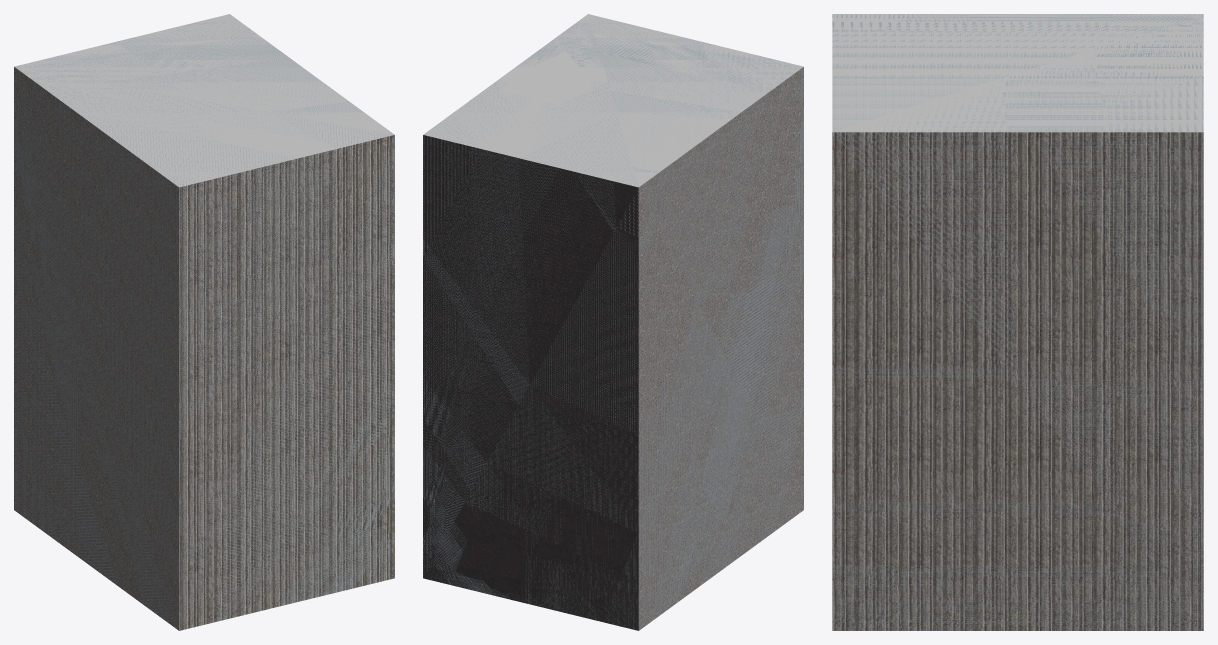
Rendered from pillar2.dae.
3 views of the same model, side by side, from view 1: azimuth 30°, elevation 25°; view 2: azimuth 150°, elevation 25°; view 3: azimuth 270°, elevation 25° (orthographic). The views are drawn at different scales.
Visible parts, largest first — view 1: SketchUp (×3); view 2: SketchUp (×3); view 3: SketchUp (×2).
Boxes of the visible parts, x1,y1,x2,y2 form: SketchUp (×3): (14, 14, 394, 630); SketchUp (×3): (423, 14, 803, 630); SketchUp (×2): (832, 14, 1203, 630).
Size of the model in its own units: 61.25 by 81.19 by 120.
